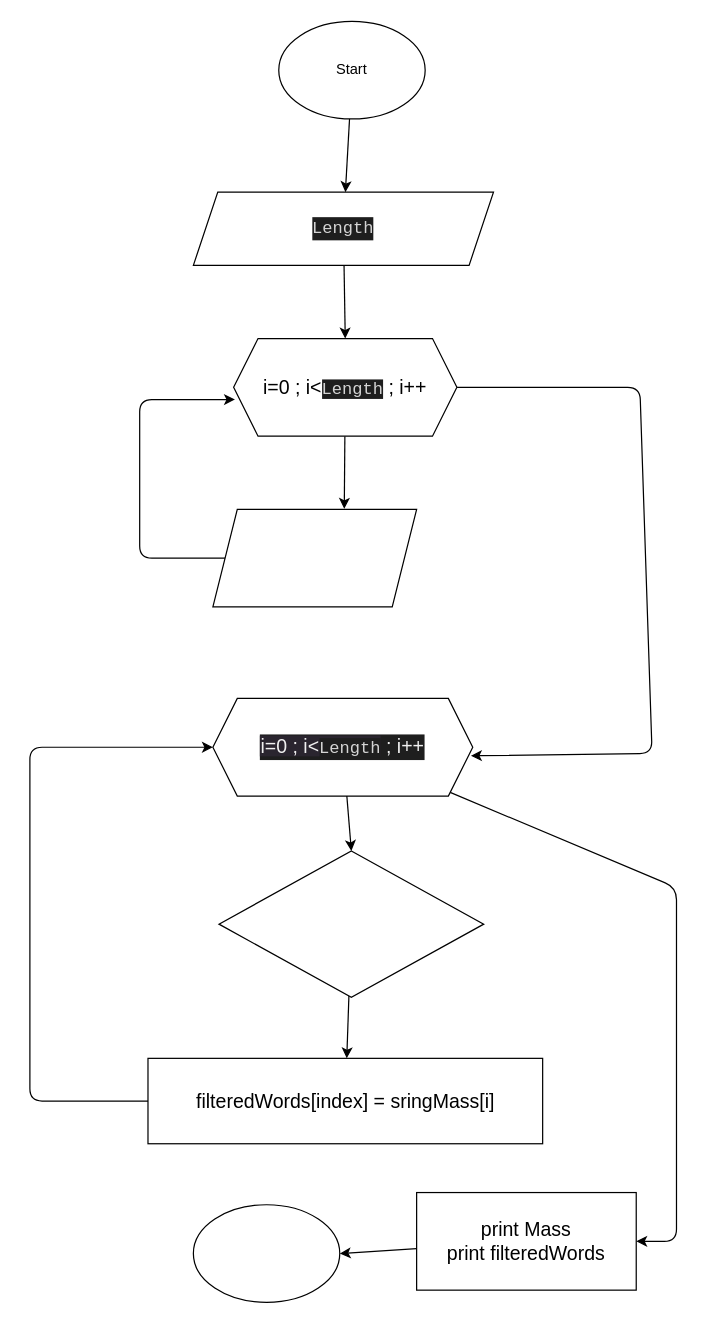
This 708x1324 diagram has some shape labels left out. Each missing label, with the centre of its shape:
Mass[i]: (314,557)
stringMass[i] <= leng 3: (351,923)
Конец: (266,1253)
